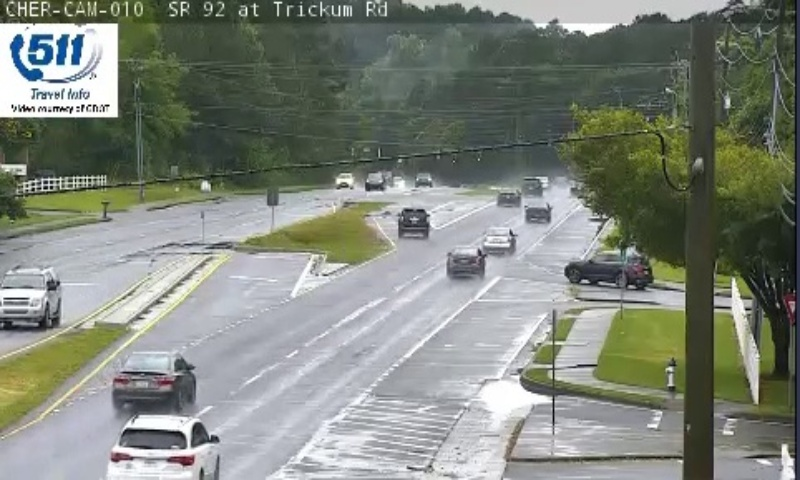car: (109, 413, 219, 480), (112, 351, 195, 406), (446, 247, 484, 276), (481, 227, 512, 254), (396, 209, 426, 234), (524, 198, 551, 221)
